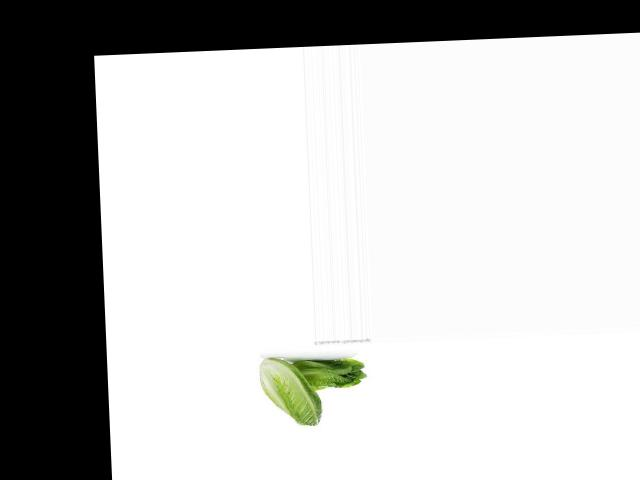lettuce: (291, 347, 366, 398)
